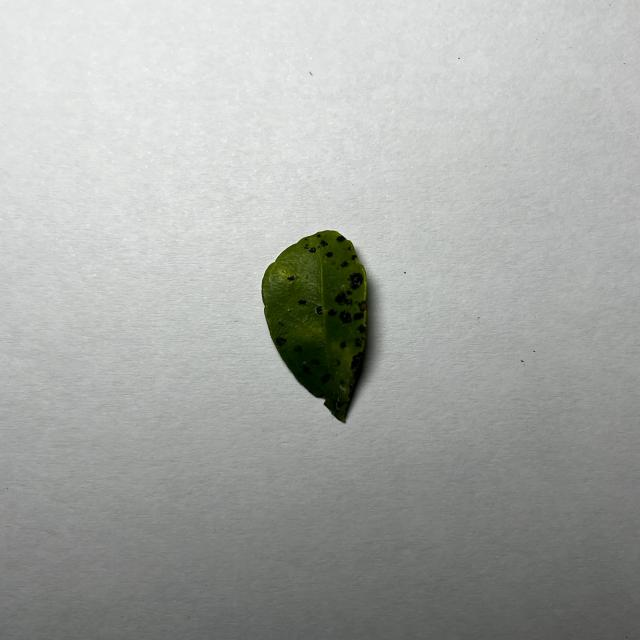sooty_mold: (262, 231, 367, 421)
